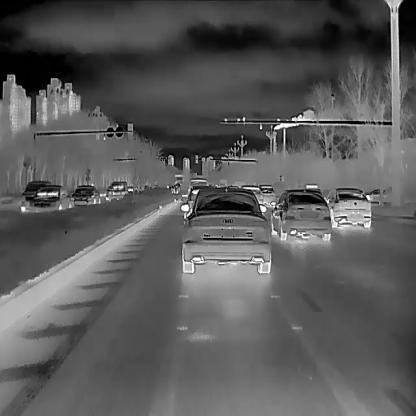car: (179, 188, 271, 273), (271, 188, 332, 242), (322, 187, 370, 228), (29, 186, 70, 218), (20, 180, 52, 210), (239, 184, 262, 211), (72, 184, 98, 204), (187, 180, 206, 206), (107, 180, 128, 199), (257, 184, 273, 208)
